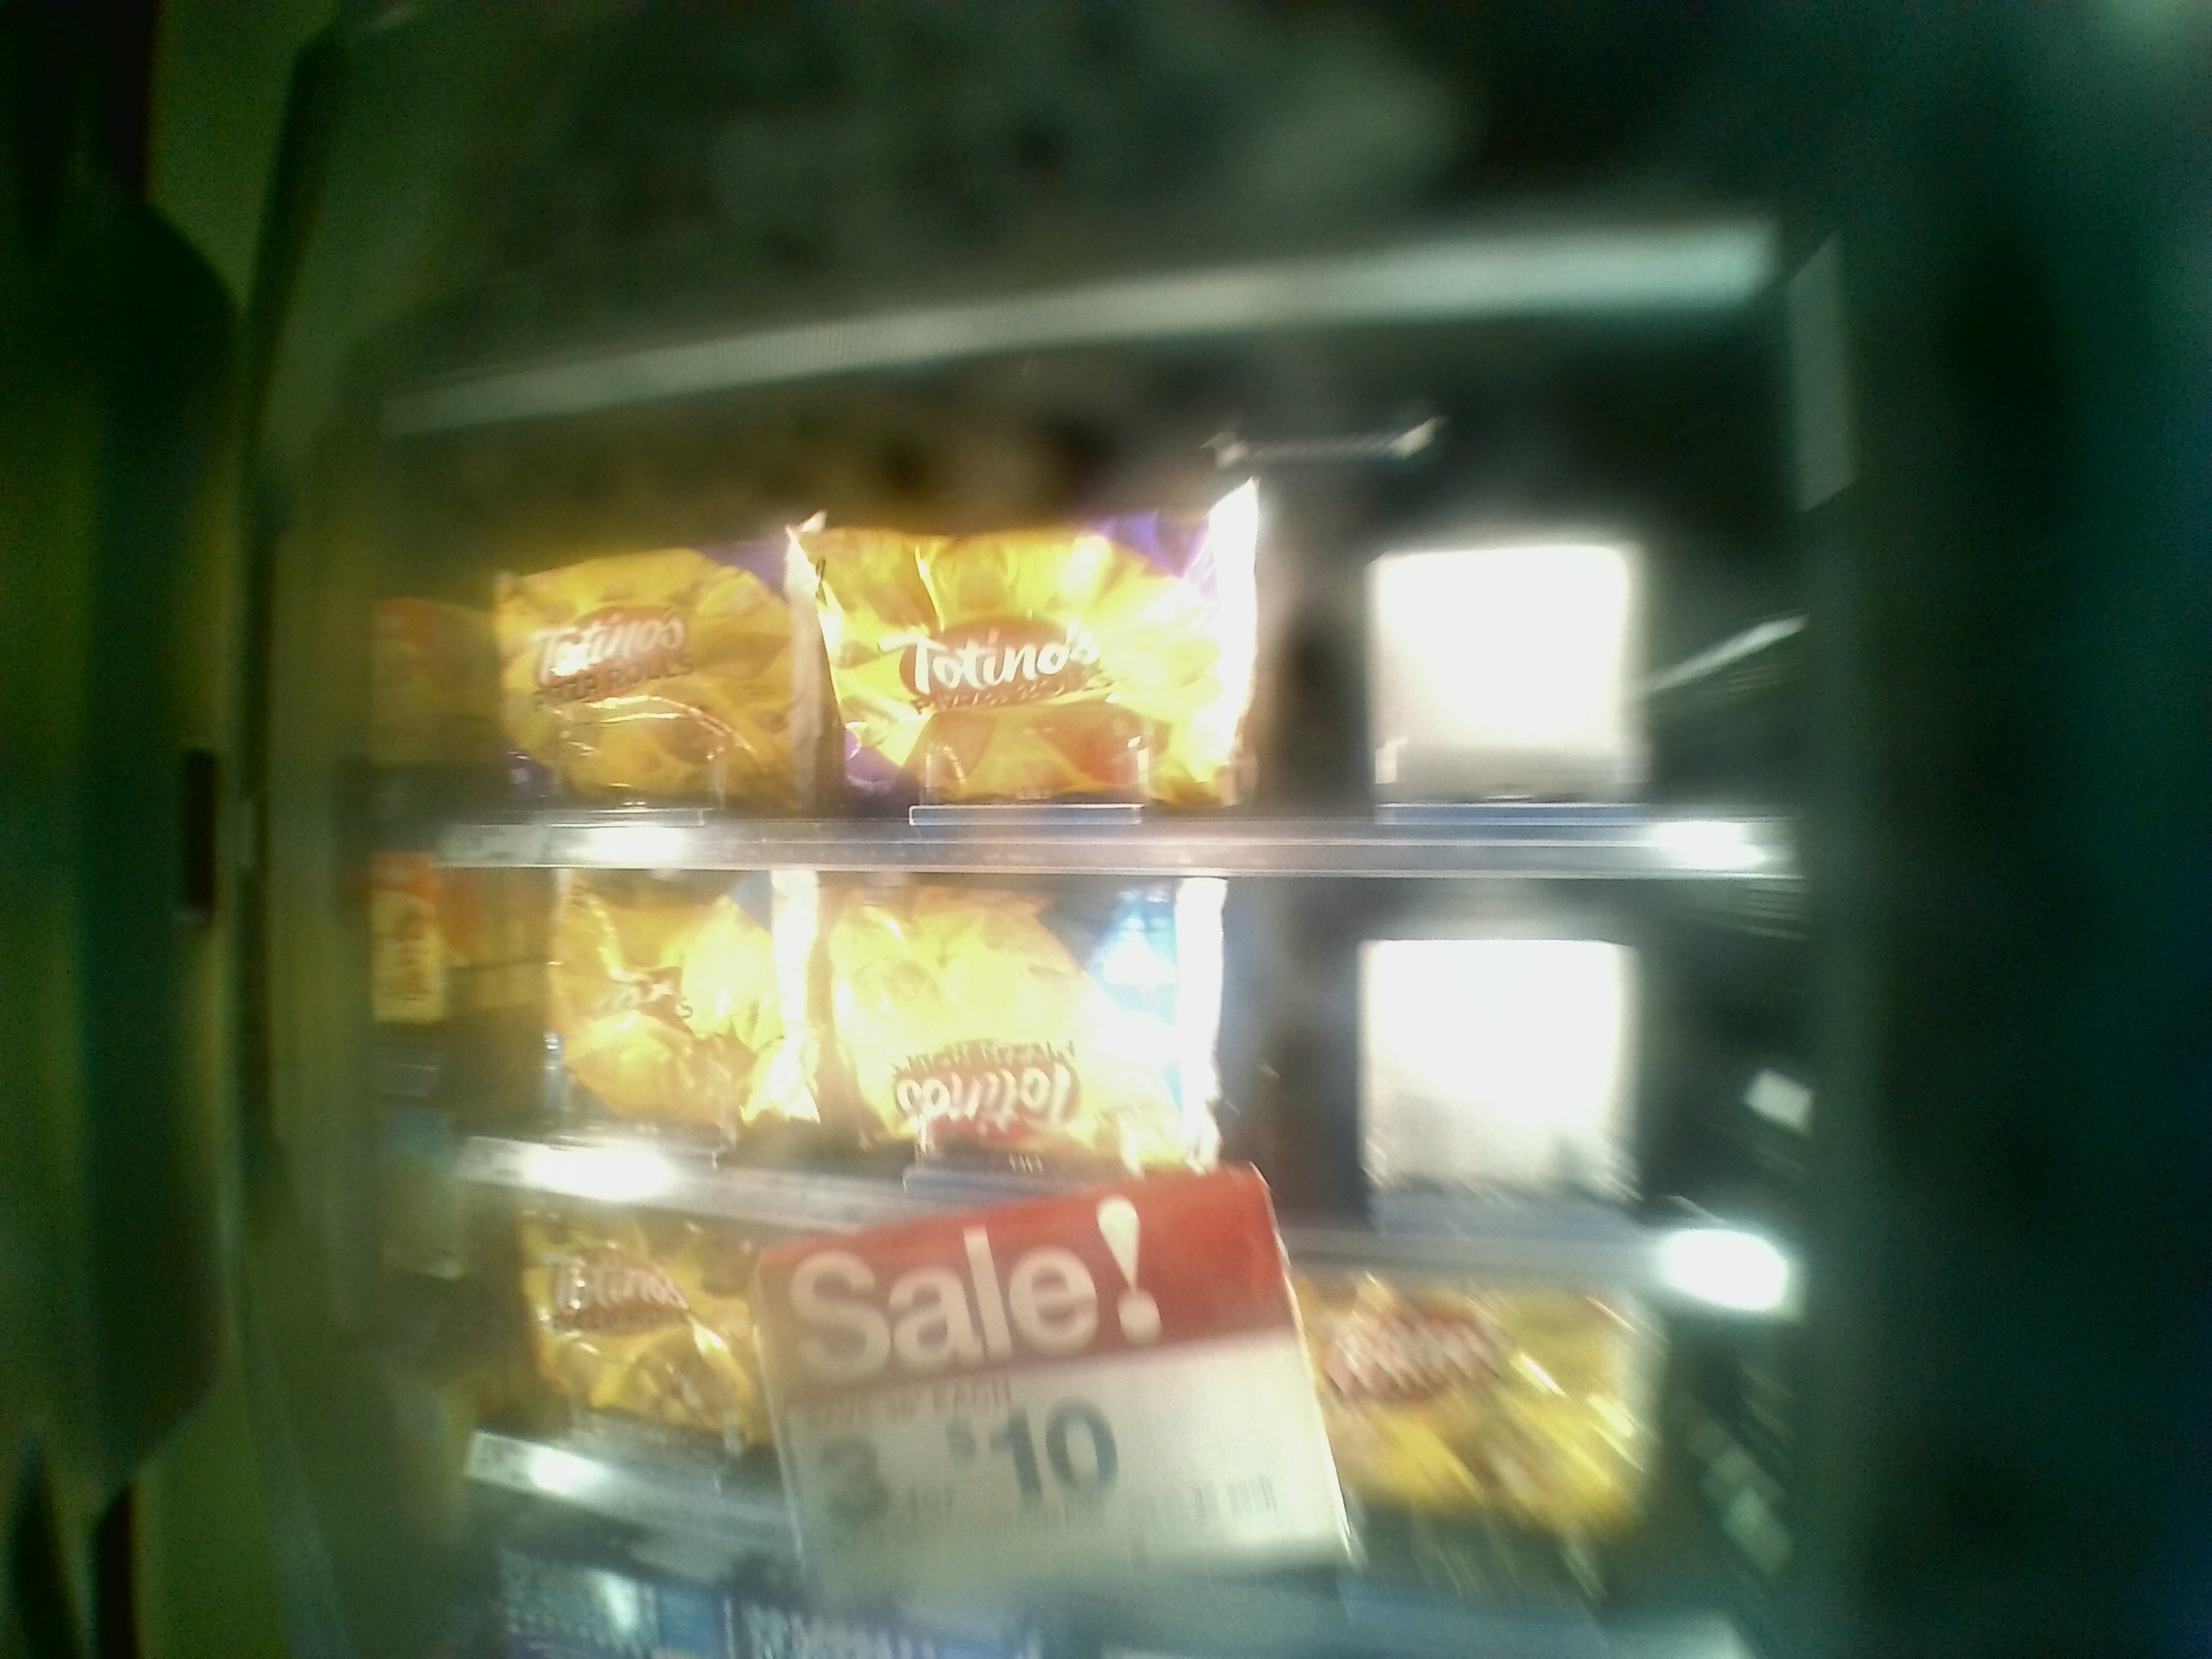shelf: (369, 423, 1792, 882), (383, 871, 1796, 1303)
